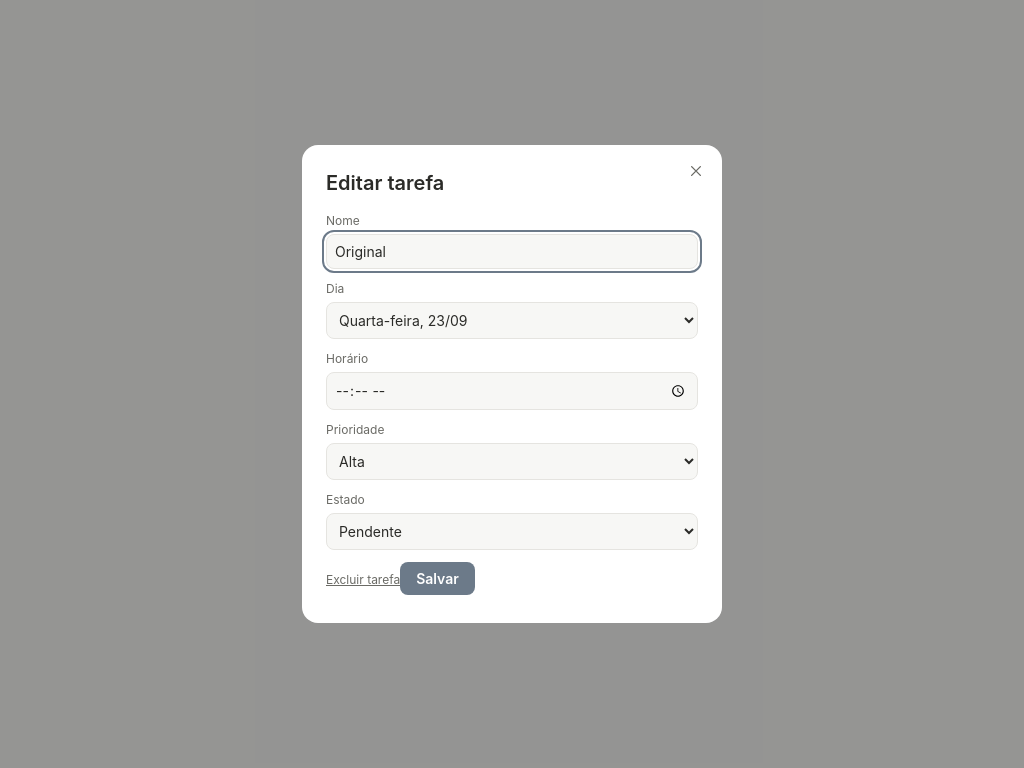
Test case: TaskModal — modo edição (Story 2.2) › escrita falha: modal aberto, erro inline, valores preservados, tarefa mantém valores antigos até sucesso
This screenshot has width=1024, height=768.
Replace the text in the field labelled "Nome" with "Mudou mas não salvou" at (512, 252), box [326, 234, 698, 269]
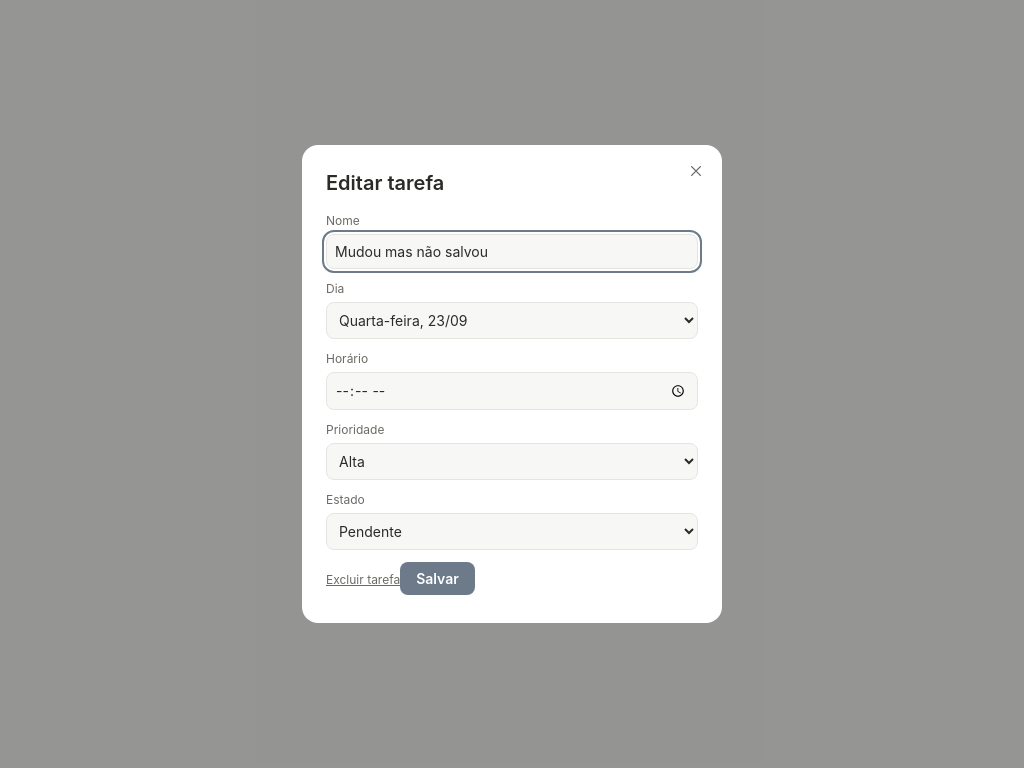
Click the button "Salvar" at (438, 578), box [400, 562, 475, 595]
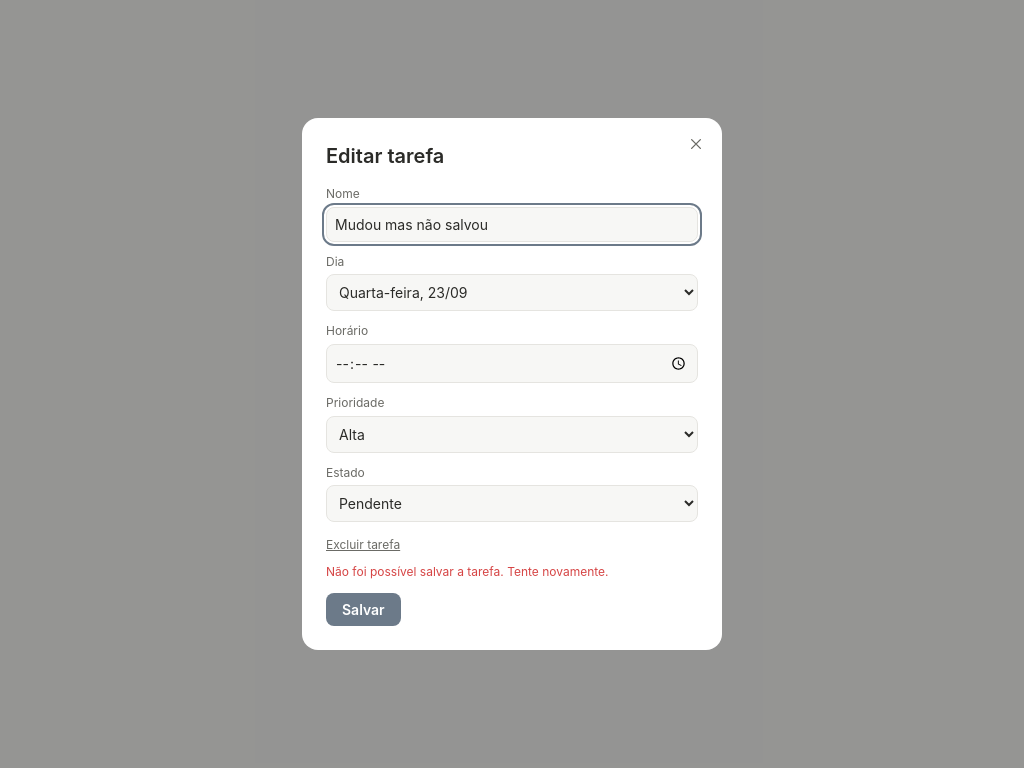
Check: the text "Não foi possível salvar a tarefa. Tente novamente." is shown, box [326, 564, 609, 579]
